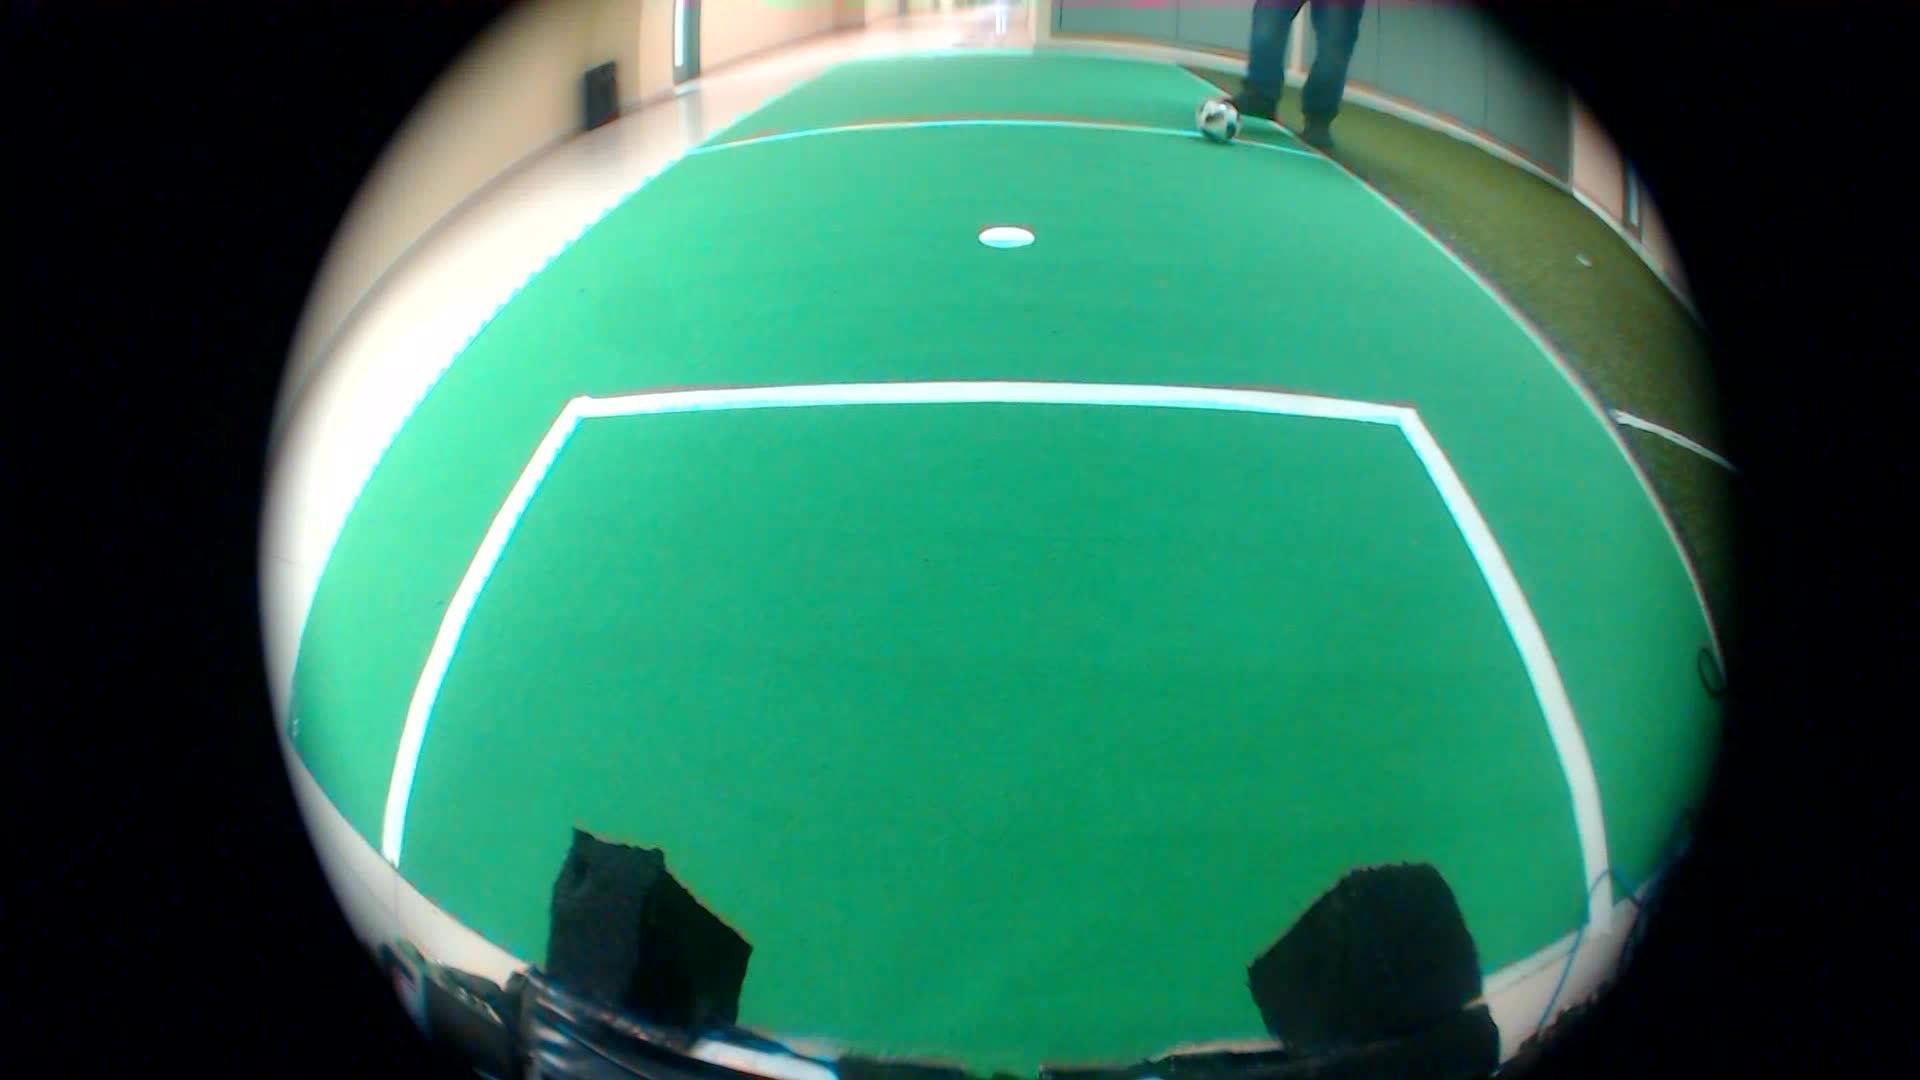ball: (1188, 92, 1236, 150)
